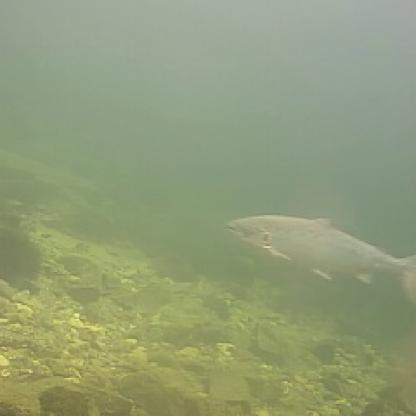salmon: (220, 206, 414, 296)
